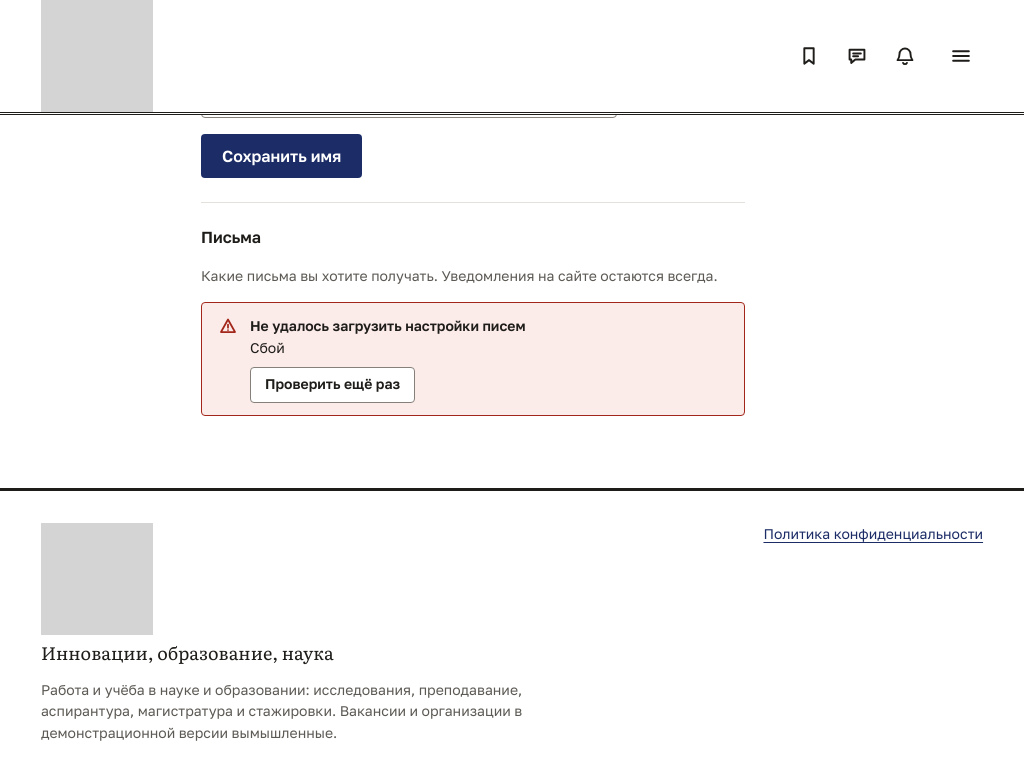
Test: mail settings in the account › says so when the settings do not load, and retries
The width and height of the screenshot is (1024, 768).
(page scrolled)
Expected: the message shows "Не удалось загрузить настройки писем", [250,317,526,334]
Click the button "Проверить ещё раз" at x=333, y=385, box [250,367,415,403]
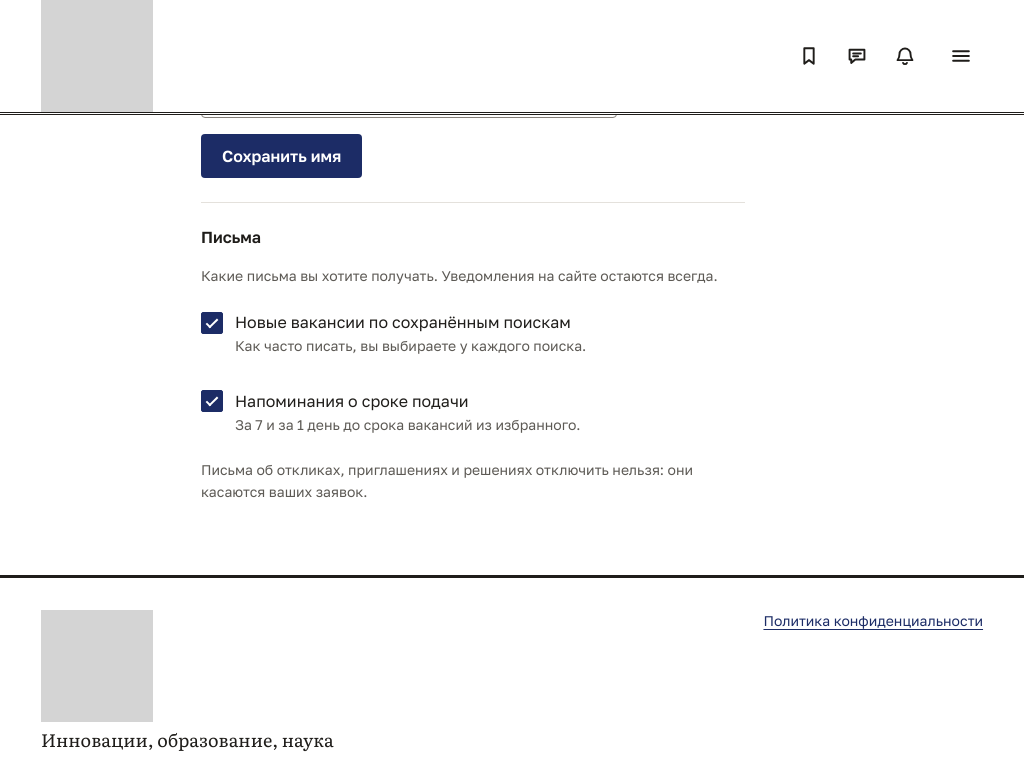
Expected: the checkbox labelled "Новые вакансии по сохранённым поискам" is checked, [201,312,223,334]
